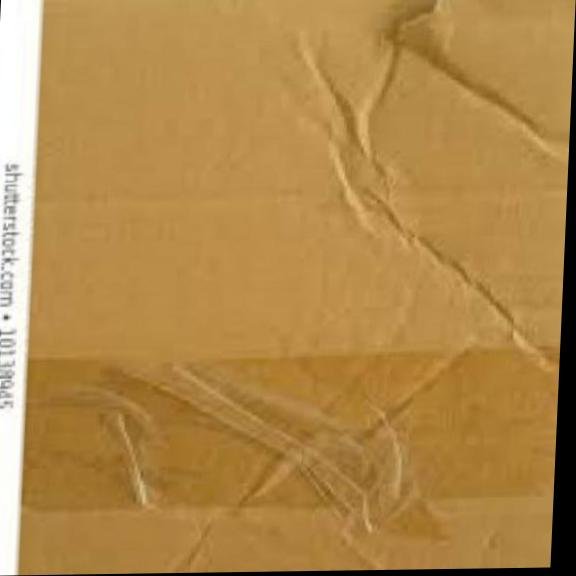Kertas: (18, 0, 576, 573)
